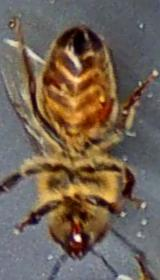varroa_mite: (88, 83, 124, 131)
